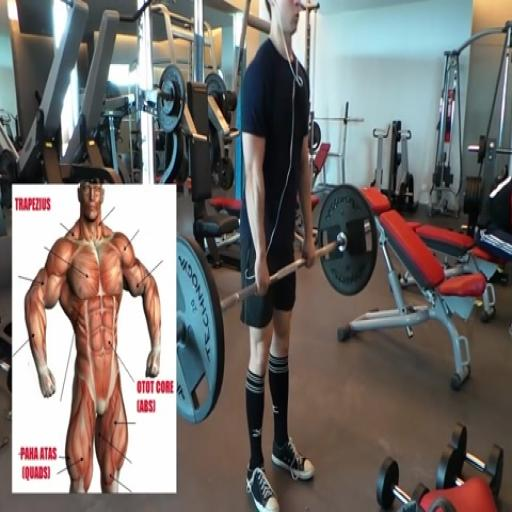exercise: (22, 175, 164, 495), (236, 0, 319, 511)
